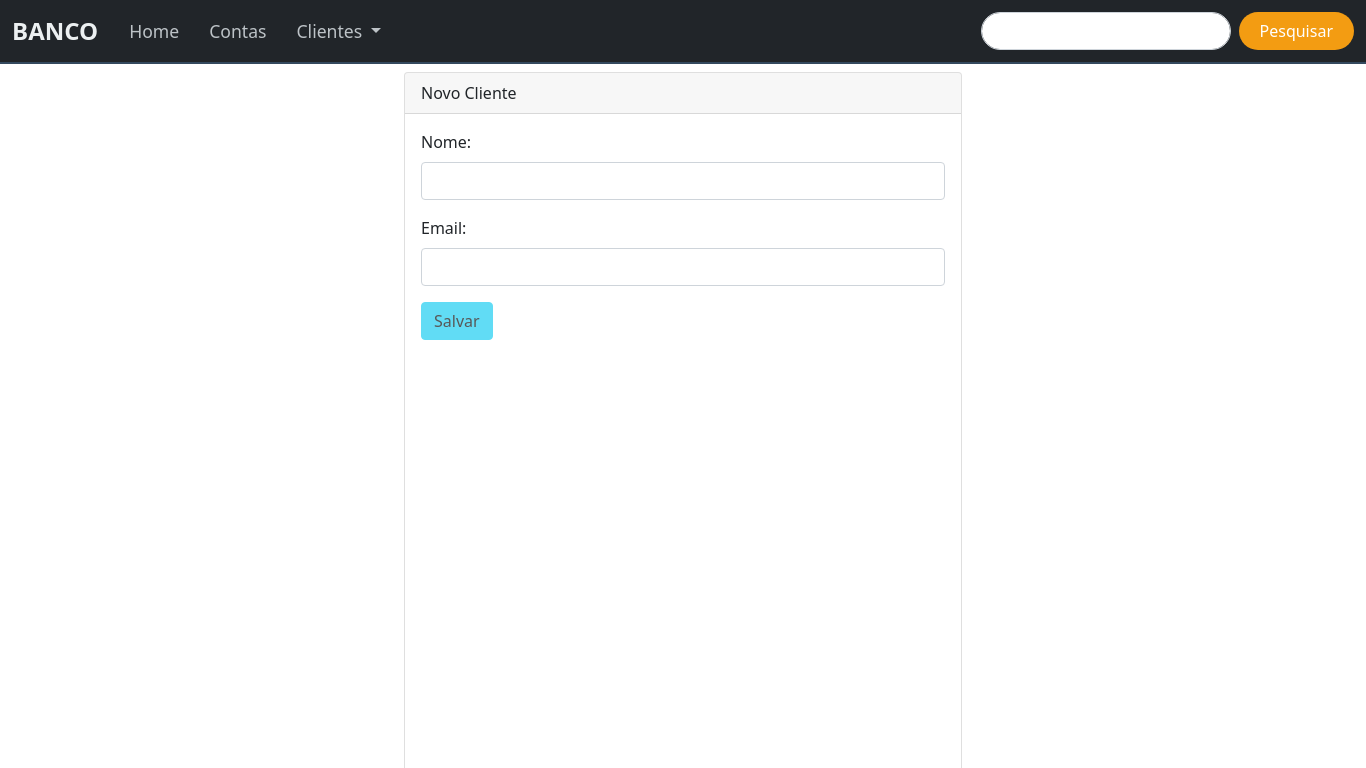
Test case: Teste de Adição de Novo Cliente › Deve exibir um erro se o email não for válido
Type "carlos.eduardoexample.com" into the field named "email" below "Email:".
click(683, 267); type("carlos.eduardoexample.com")  # box [421, 248, 945, 286]
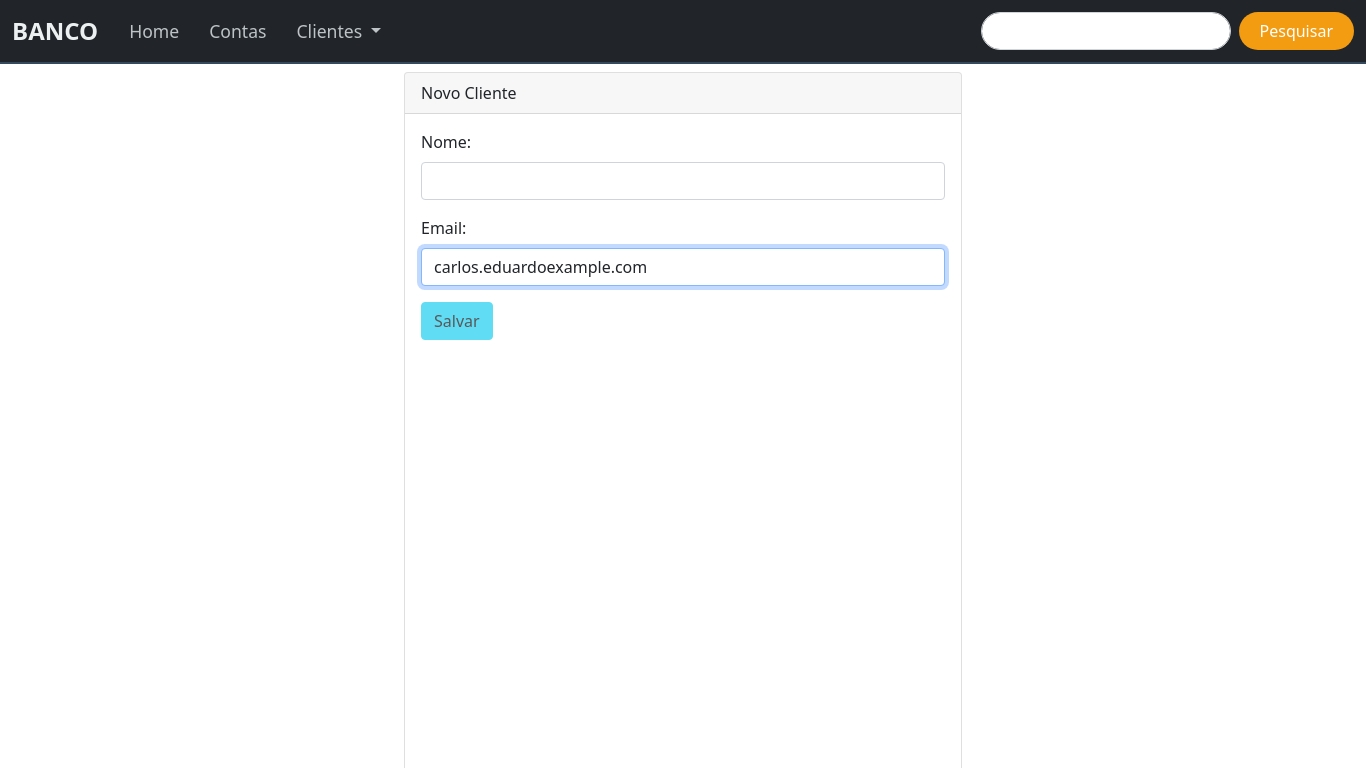
Type "Carlos Eduardo" into the field named "name" below "Nome:".
click(683, 181); type("Carlos Eduardo")  # box [421, 162, 945, 200]
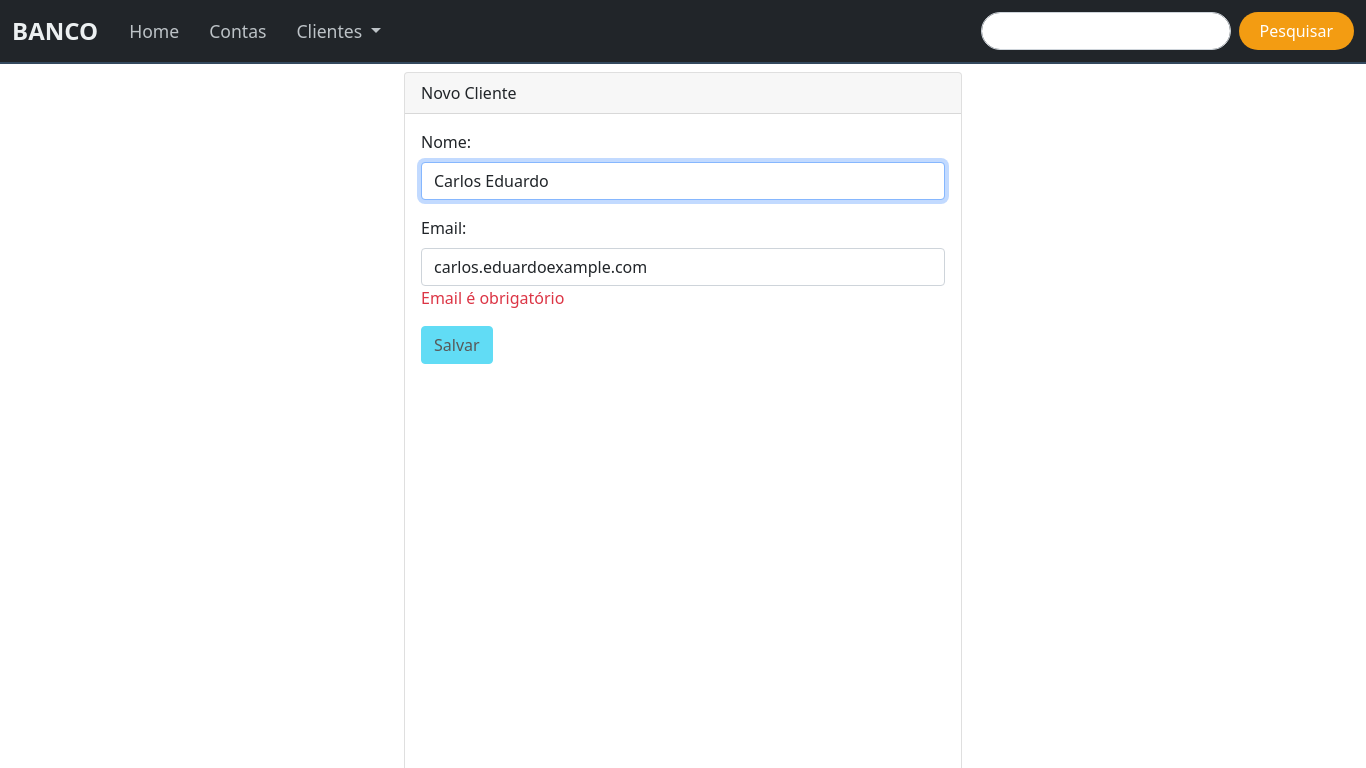
Expected: the text "Email é obrigatório" is shown, [421, 287, 564, 309]
